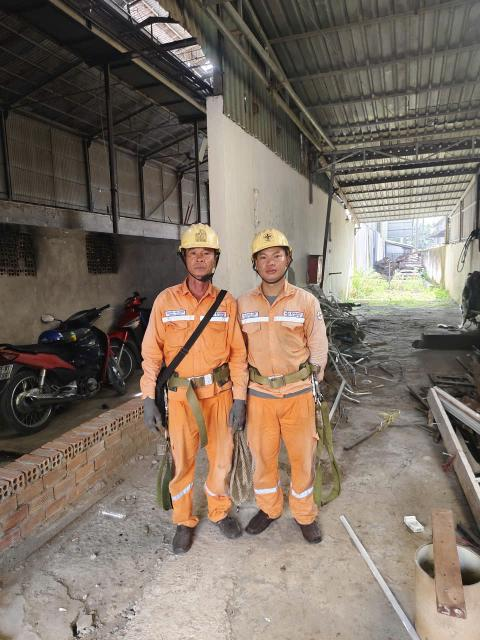gloves: (136, 397, 167, 443), (225, 393, 247, 437)
harness: (156, 371, 247, 394), (248, 368, 327, 390)
helmet: (172, 215, 231, 258), (247, 220, 297, 261)
shoes: (292, 493, 339, 557), (247, 487, 288, 554), (157, 509, 203, 564), (206, 502, 245, 555)
